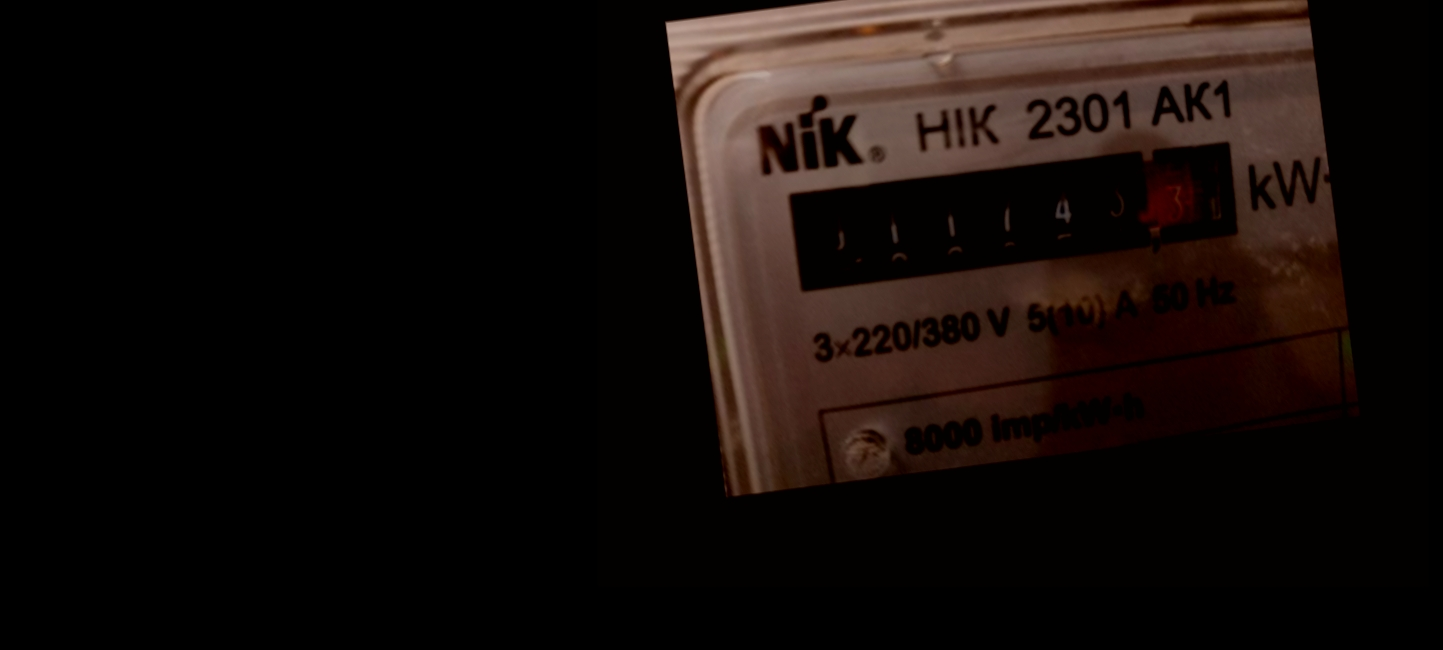0: (817, 204, 852, 254)
1: (936, 191, 963, 241), (882, 198, 905, 248)
3: (1099, 171, 1133, 221), (1161, 178, 1190, 225)
4: (1046, 177, 1080, 228)
7: (992, 185, 1022, 236)
screen: (772, 126, 1249, 302)
